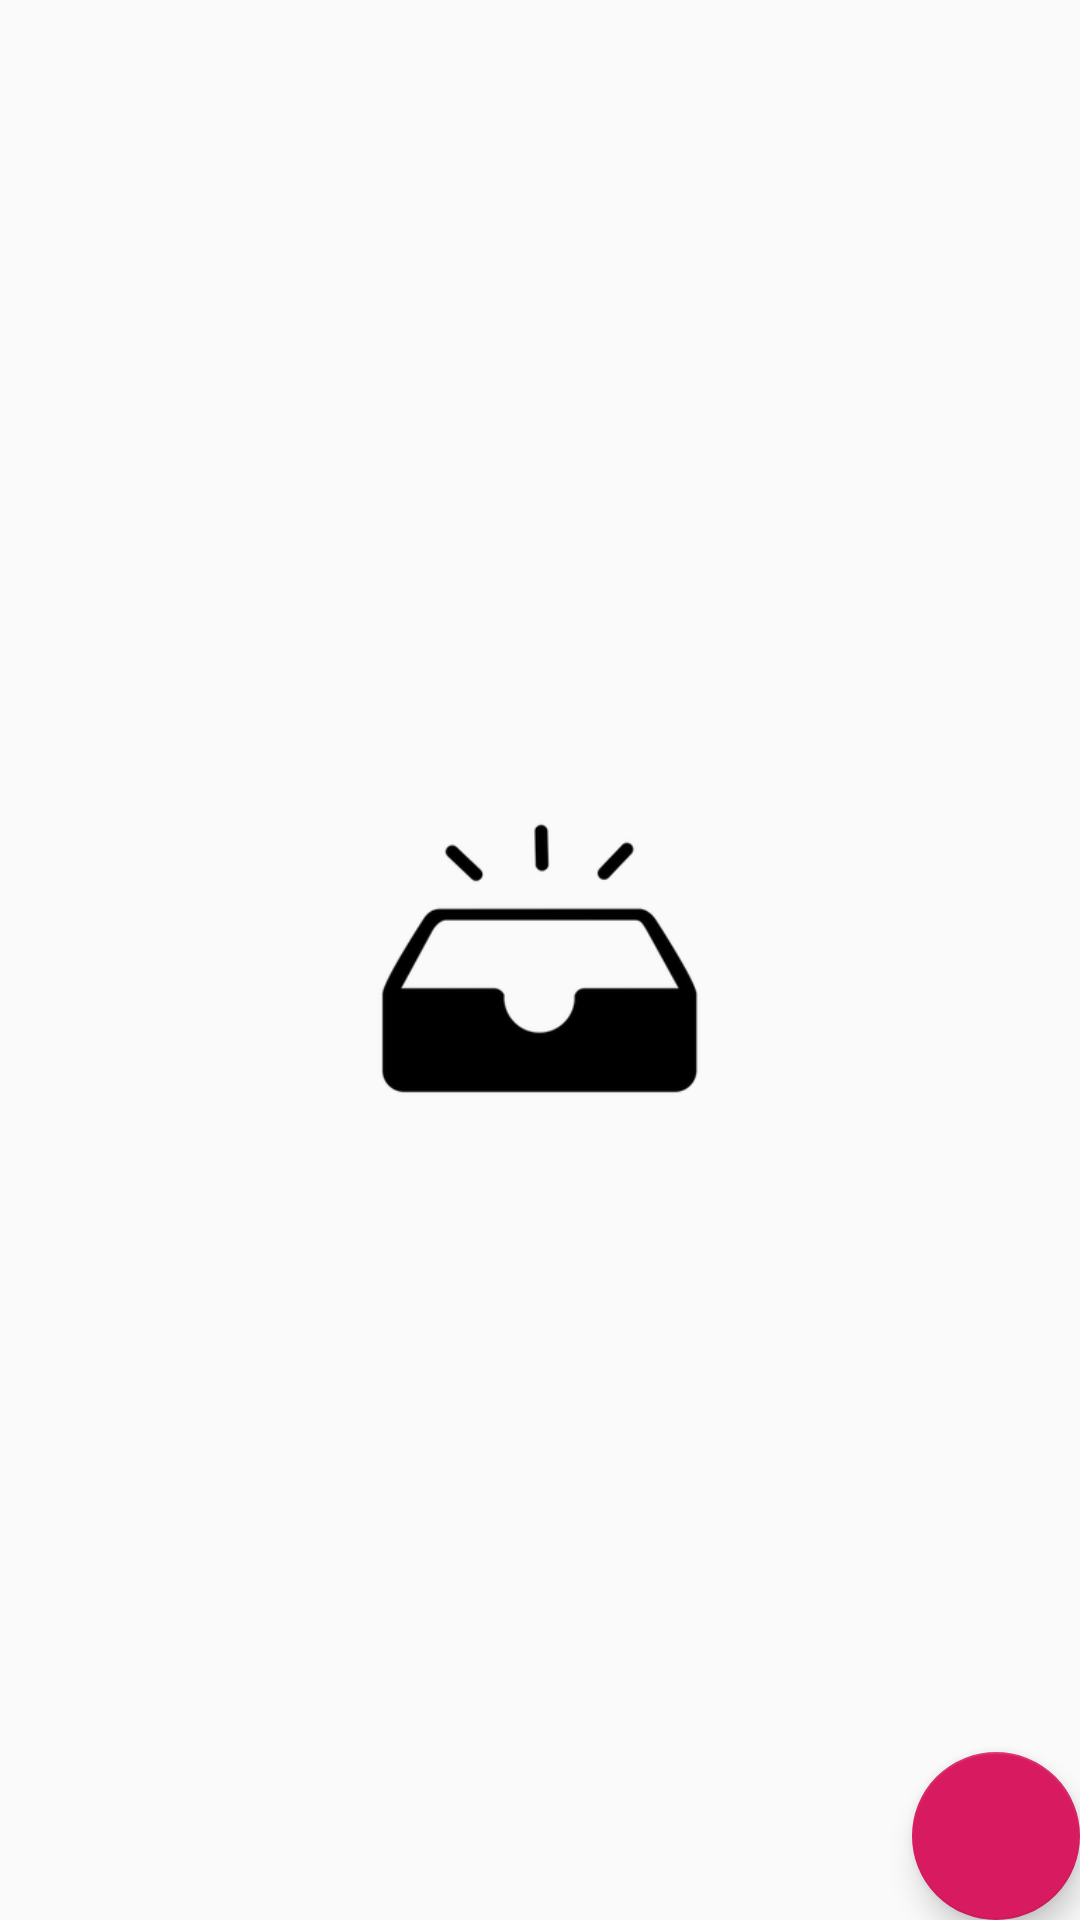

Icons on this 1080w x 1920h Android screen, each with its box as region(x1, y1, x2, y2):
nodata: region(382, 824, 698, 1093)
